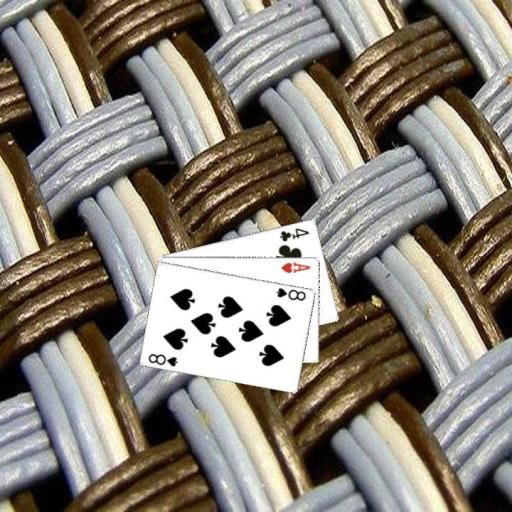4C: (277, 225, 311, 243)
8S: (273, 285, 308, 303), (145, 350, 179, 368)
AH: (278, 259, 312, 274)
